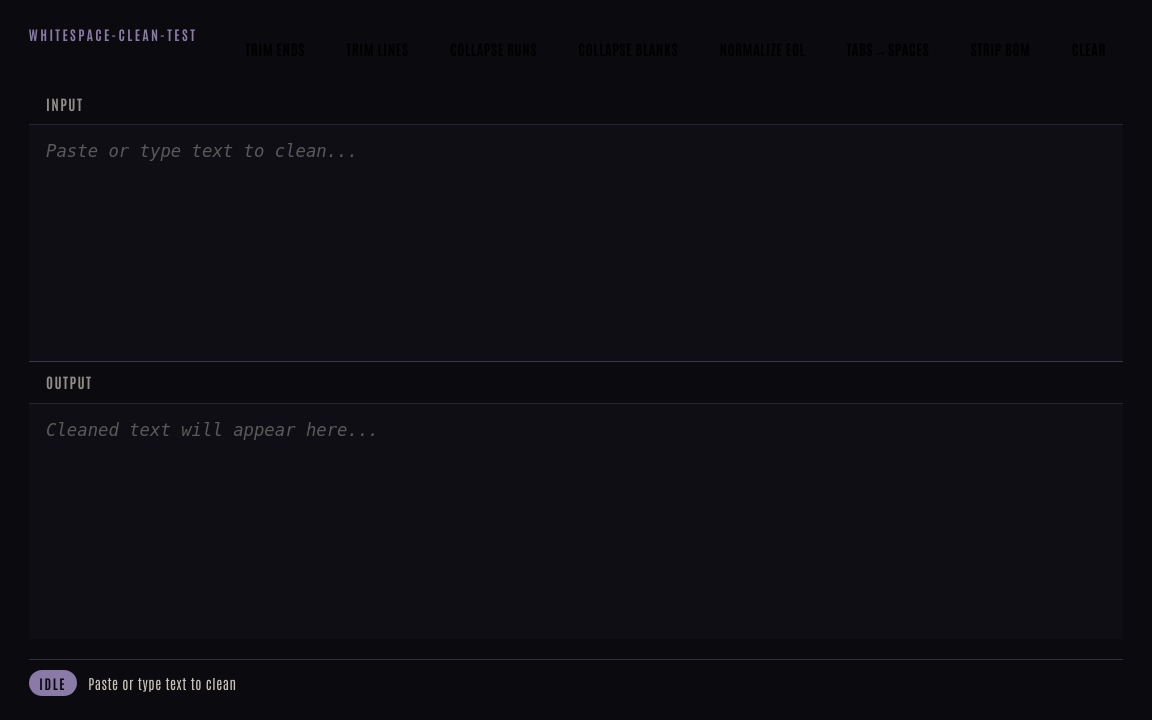
Test: WhitespaceClean › transitions to "Ready" when text is typed
In the text box named "Text input for whitespace cleaning": point(576, 243) x1=29 y1=125 x2=1123 y2=361, type "  hello  "
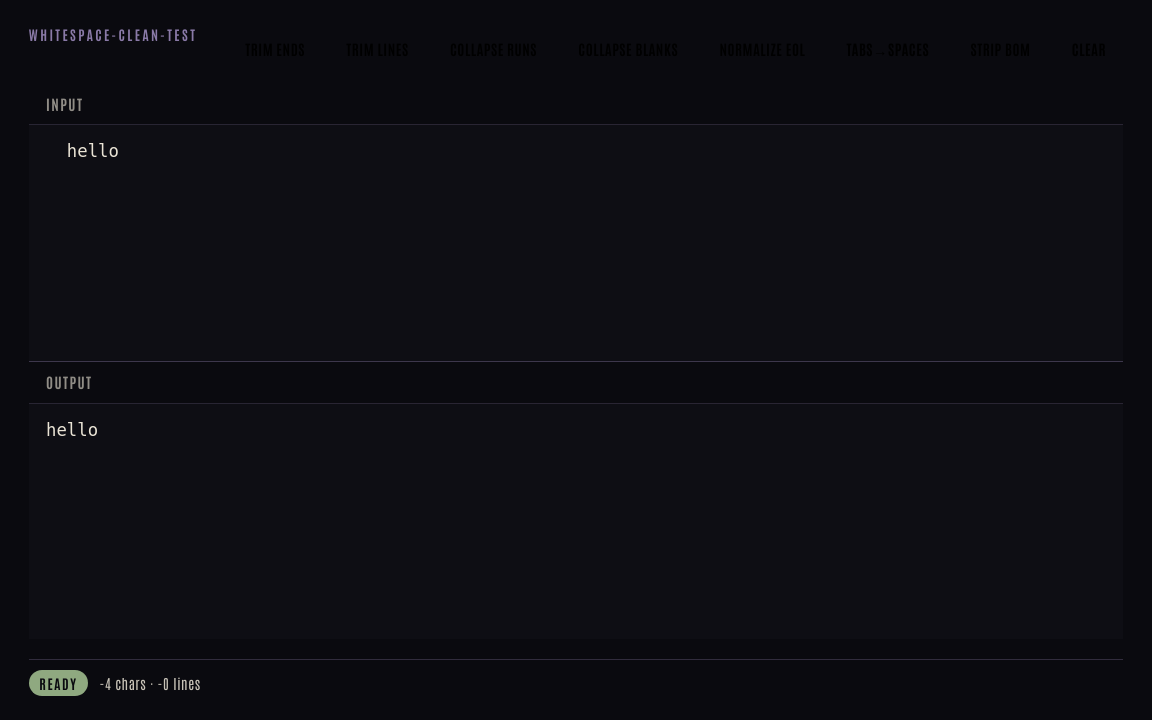
Expected: the text "Ready" is shown, x1=29 y1=670 x2=88 y2=696
